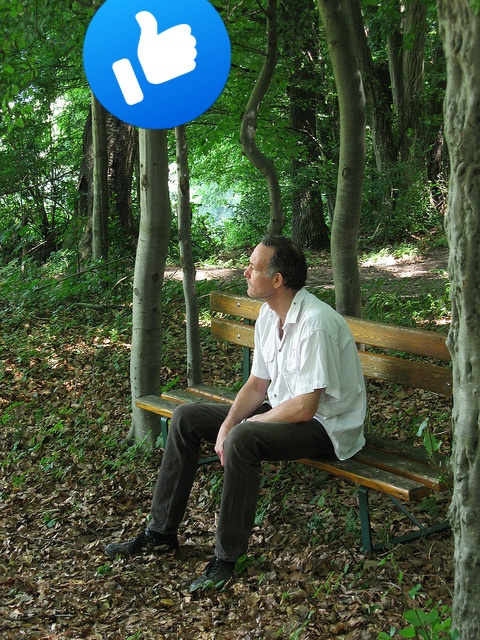like: (83, 0, 231, 129)
